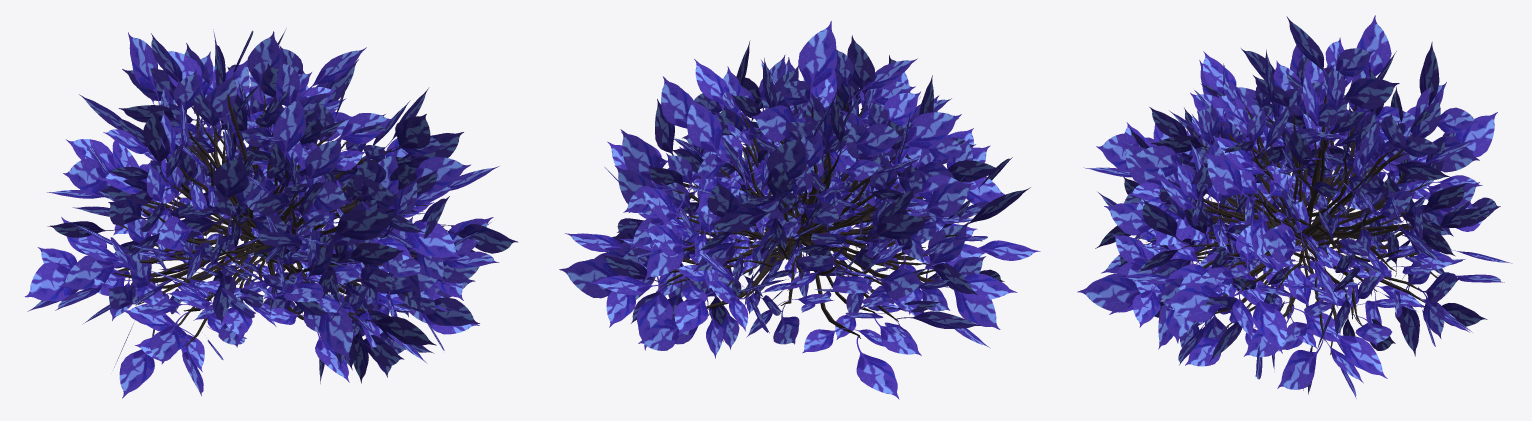
File: purplebush6.fbx
The picture shows the model from 3 angles, left to right: view 1: azimuth 30°, elevation 25°; view 2: azimuth 150°, elevation 25°; view 3: azimuth 270°, elevation 25°; orthographic projection. The views are drawn at different scales.
Parts seen in each view (by area): view 1: pCylinder1056; view 2: pCylinder1056; view 3: pCylinder1056.
Part boxes in pixels (<box>): pCylinder1056: <box>24,29,518,398</box>; pCylinder1056: <box>559,21,1040,399</box>; pCylinder1056: <box>1077,15,1512,398</box>.
Bounding box in the file's own units: 20.4 × 15.96 × 18.99.
